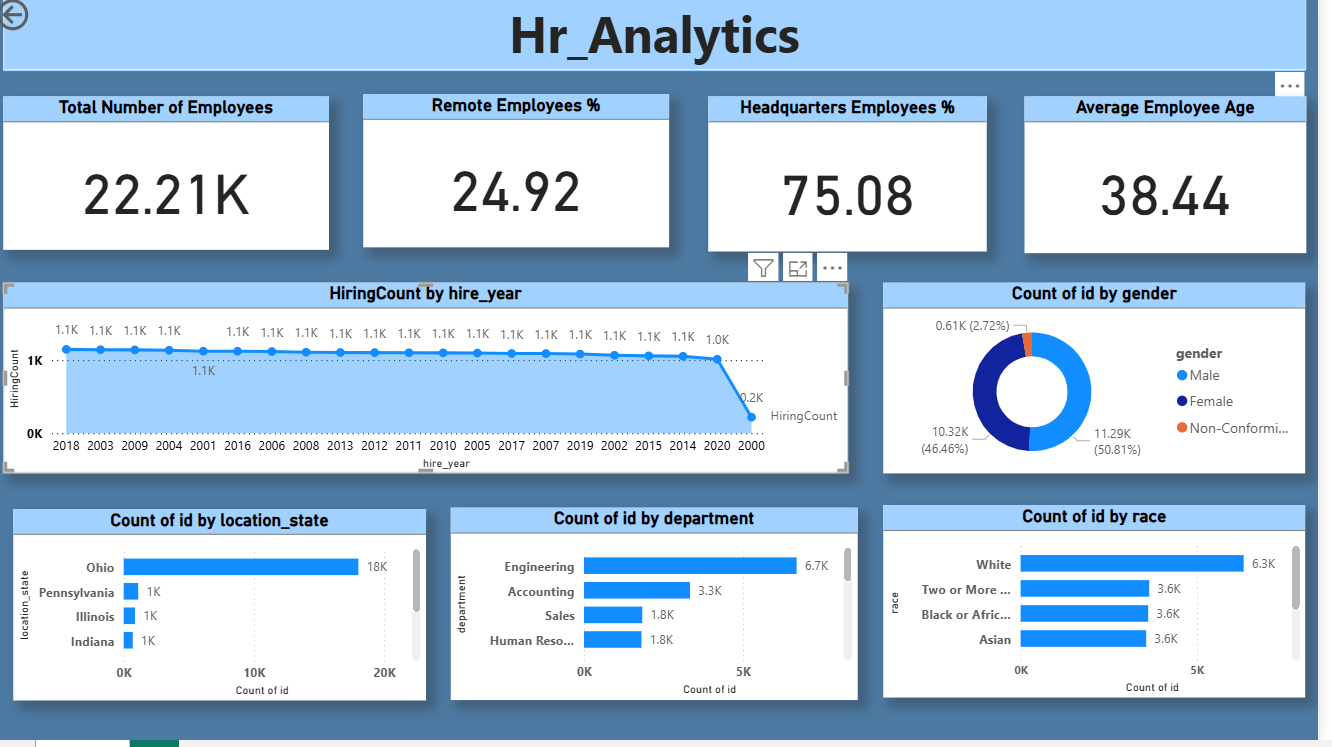

This screenshot's page, from the dashboard's own definition file:
{"tool":"powerbi","page":{"name":"Page 1","canvas":[1280,720],"ordinal":0},"visuals":[{"type":"card","title":"Total Number of Employees","fields":{"Values":["CountNonNull(new_project_hr_analytics.id)"]},"box":[11,98.8,314.2,148.2],"z":0},{"type":"card","title":"Remote Employees %","fields":{"Values":["new_project_hr_analytics.Remote_Percent"]},"box":[358.1,96.1,295,148.2],"z":2000},{"type":"textbox","box":[11,0,1257,74.1],"z":3000},{"type":"card","title":"Headquarters Employees %","fields":{"Values":["new_project_hr_analytics.HQ_Percent"]},"box":[691.6,98.8,269,149.6],"z":4000},{"type":"card","title":"Average Employee Age","fields":{"Values":["new_project_hr_analytics.Average_Age"]},"box":[996.2,98.8,271.7,150.9],"z":5000},{"type":"lineChart","fields":{"Category":["new_project_hr_analytics.hire_year"],"Y":["new_project_hr_analytics.HiringCount"]},"box":[11,278.6,815.1,183.9],"z":6001},{"type":"donutChart","fields":{"Category":["new_project_hr_analytics.gender"],"Y":["CountNonNull(new_project_hr_analytics.id)"]},"box":[860.4,278.6,407.5,183.9],"z":6002},{"type":"barChart","fields":{"Y":["CountNonNull(new_project_hr_analytics.id)"],"Category":["new_project_hr_analytics.location_state"]},"box":[20.6,494,397.9,183.9],"z":6003},{"type":"barChart","fields":{"Category":["new_project_hr_analytics.department"],"Y":["CountNonNull(new_project_hr_analytics.id)"]},"box":[443.2,495.4,392.5,185.2],"z":6004},{"type":"barChart","fields":{"Category":["new_project_hr_analytics.race"],"Y":["CountNonNull(new_project_hr_analytics.id)"]},"box":[860.4,494,407.5,185.2],"z":6005},{"type":"actionButton","box":[0,0,100,40],"z":6006}]}

Visuals, with their boxes in screenshot pixels (x1, y1, x2, y2), scaled from the page's 1280x720 canvas onto the 1332x747 screenshot:
"Total Number of Employees" card: box=[11, 103, 338, 256]
"Remote Employees %" card: box=[373, 100, 680, 253]
textbox: box=[11, 0, 1320, 77]
"Headquarters Employees %" card: box=[720, 103, 1000, 258]
"Average Employee Age" card: box=[1037, 103, 1319, 259]
lineChart - new_project_hr_analytics.hire_year x new_project_hr_analytics.HiringCount: box=[11, 289, 860, 480]
donutChart - new_project_hr_analytics.gender x CountNonNull(new_project_hr_analytics.id): box=[895, 289, 1319, 480]
barChart - CountNonNull(new_project_hr_analytics.id) x new_project_hr_analytics.location_state: box=[21, 513, 436, 703]
barChart - new_project_hr_analytics.department x CountNonNull(new_project_hr_analytics.id): box=[461, 514, 870, 706]
barChart - new_project_hr_analytics.race x CountNonNull(new_project_hr_analytics.id): box=[895, 513, 1319, 705]
actionButton: box=[0, 0, 104, 42]
